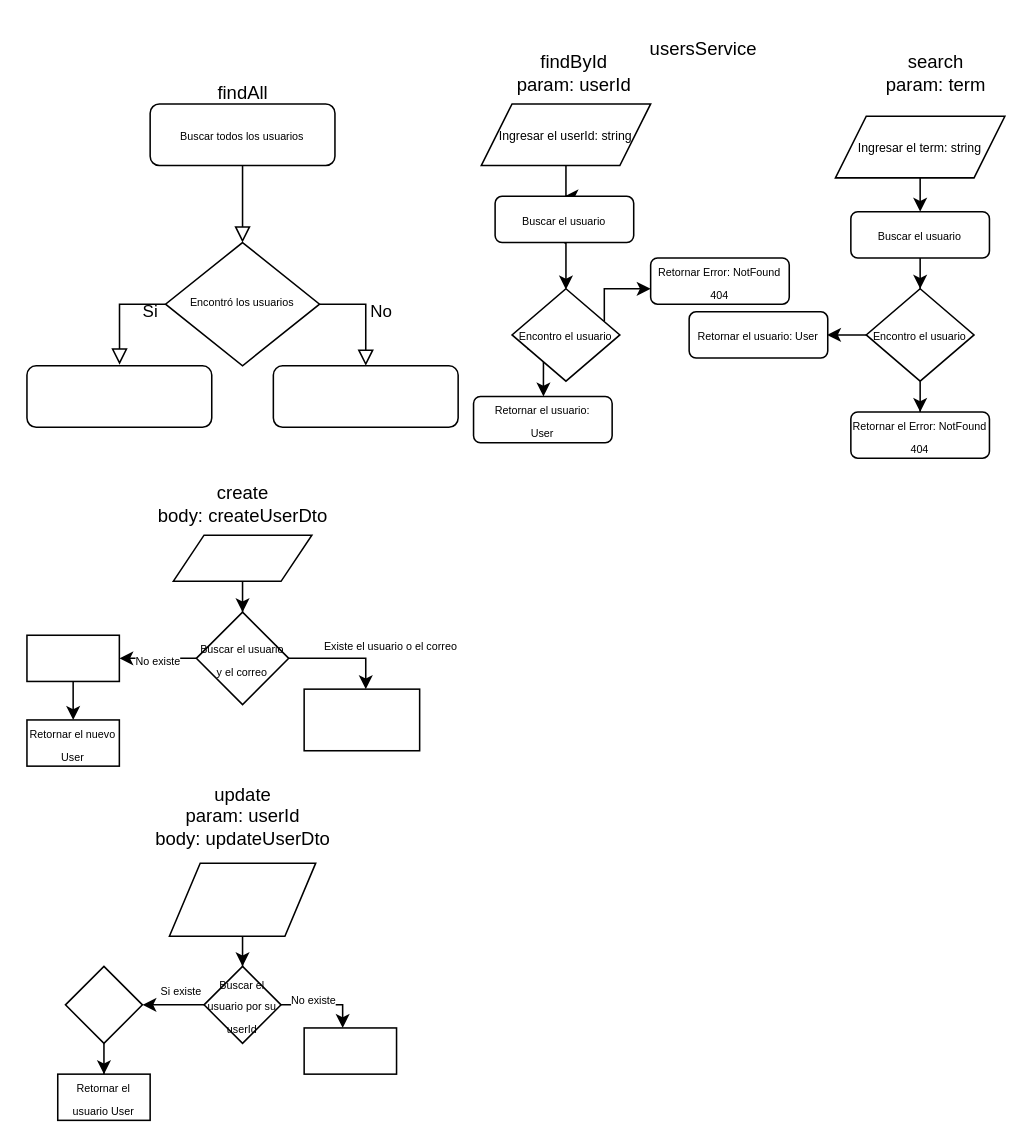
Image size: 1032x1147. Some labels were removed from this diagram. Here are the shapes that lost their labels. From the top down, the centre of each, then its label:
At pixel 118 395: "Retornar los usuarios: User[]".
At pixel 365 395: "Mostrar Error: NotFound 404".
At pixel 242 557: "Ingresar el body: createUserDto".
At pixel 72 657: "Validar los datos y crear el usuario".
At pixel 361 719: "Retornar Error: BadRequestException 400".
At pixel 242 899: "Ingresar el userId y el updateUserDto".
At pixel 103 1004: "Validar los datos y actualizar el usuario".
At pixel 350 1050: "Retornar Error: NotFoundError 404".
